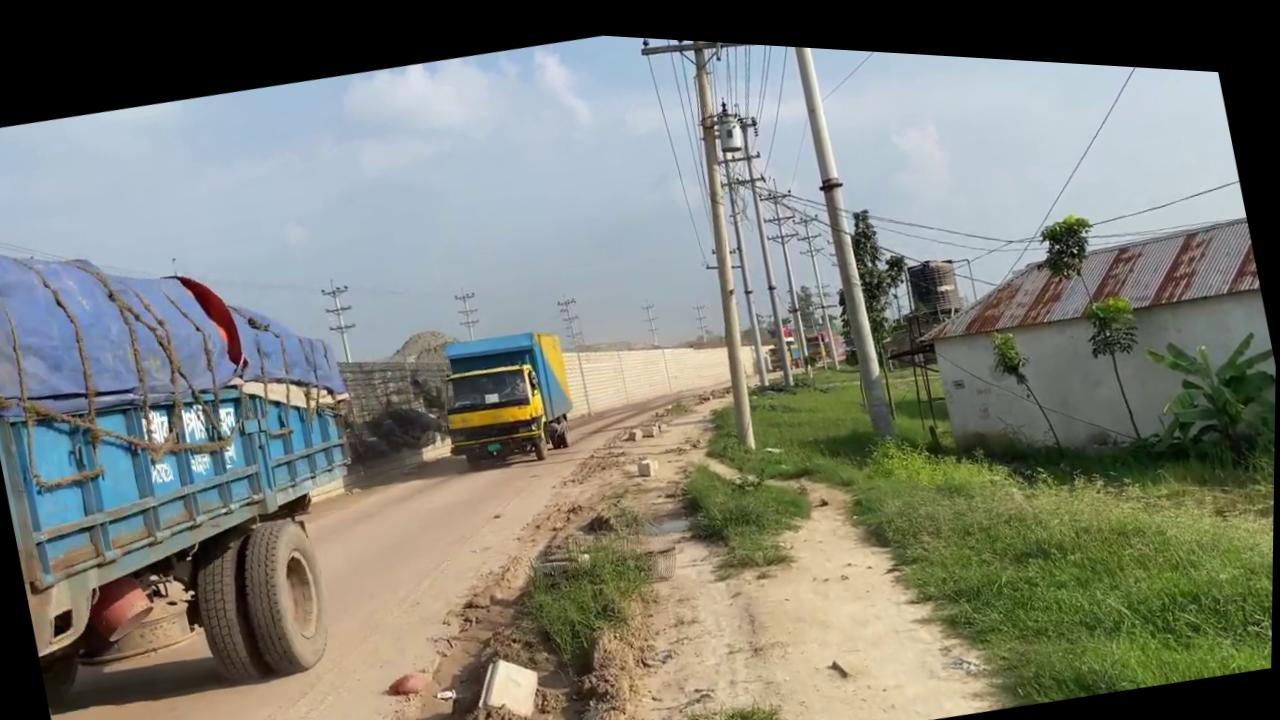Muddy road: (4, 333, 809, 720)
Pole: (651, 31, 790, 445), (778, 36, 903, 433)
Traffic-sign: (1076, 275, 1162, 435)
Tree: (0, 161, 408, 720), (427, 313, 585, 473)
